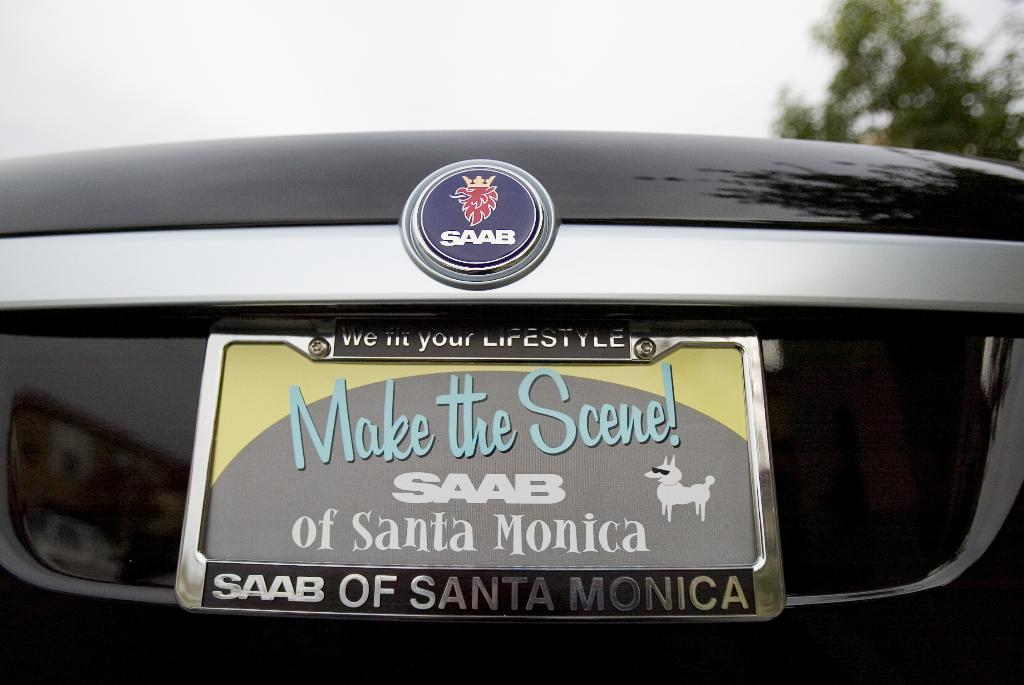cars: (0, 128, 1023, 684)
